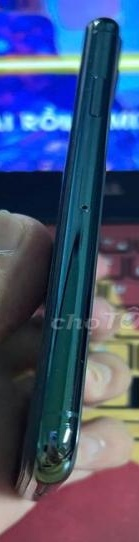scratch: (47, 315, 100, 422), (60, 109, 110, 207), (79, 42, 106, 104)
